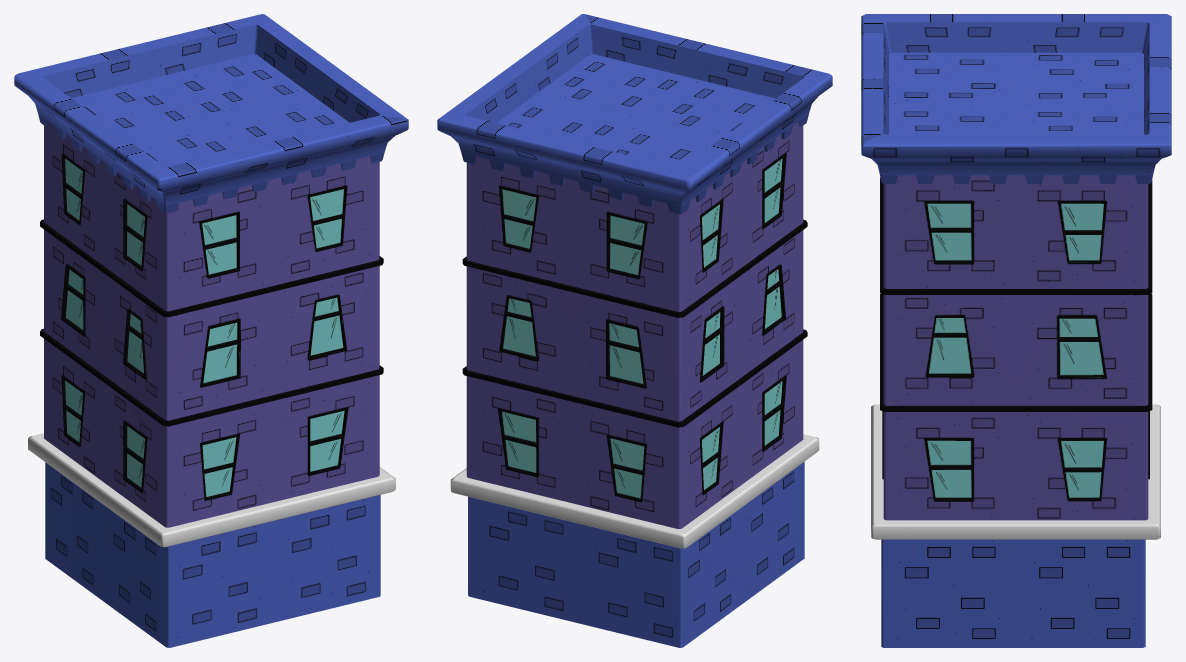
Rendered from 2x3w_Building.fbx.
3 renders of one model, left to right at view 1: azimuth 30°, elevation 25°; view 2: azimuth 150°, elevation 25°; view 3: azimuth 270°, elevation 25°, orthographic. The views are drawn at different scales.
Visible parts, largest first — view 1: Box162, roof003, Box161, Box163; view 2: Box162, roof003, Box161, Box163; view 3: Box162, roof003, Box161, Box163.
Part boxes in pixels (bbox=[...]): Box162: bbox=[40, 121, 383, 527]; roof003: bbox=[14, 14, 408, 213]; Box161: bbox=[45, 462, 380, 647]; Box163: bbox=[28, 433, 395, 547]; Box162: bbox=[462, 122, 807, 528]; roof003: bbox=[437, 14, 832, 214]; Box161: bbox=[468, 461, 804, 647]; Box163: bbox=[450, 434, 819, 548]; Box162: bbox=[880, 175, 1152, 520]; roof003: bbox=[861, 14, 1171, 183]; Box161: bbox=[881, 539, 1145, 647]; Box163: bbox=[871, 404, 1160, 539].
Size of the model in its own units: 5.87 by 10.71 by 5.87.
